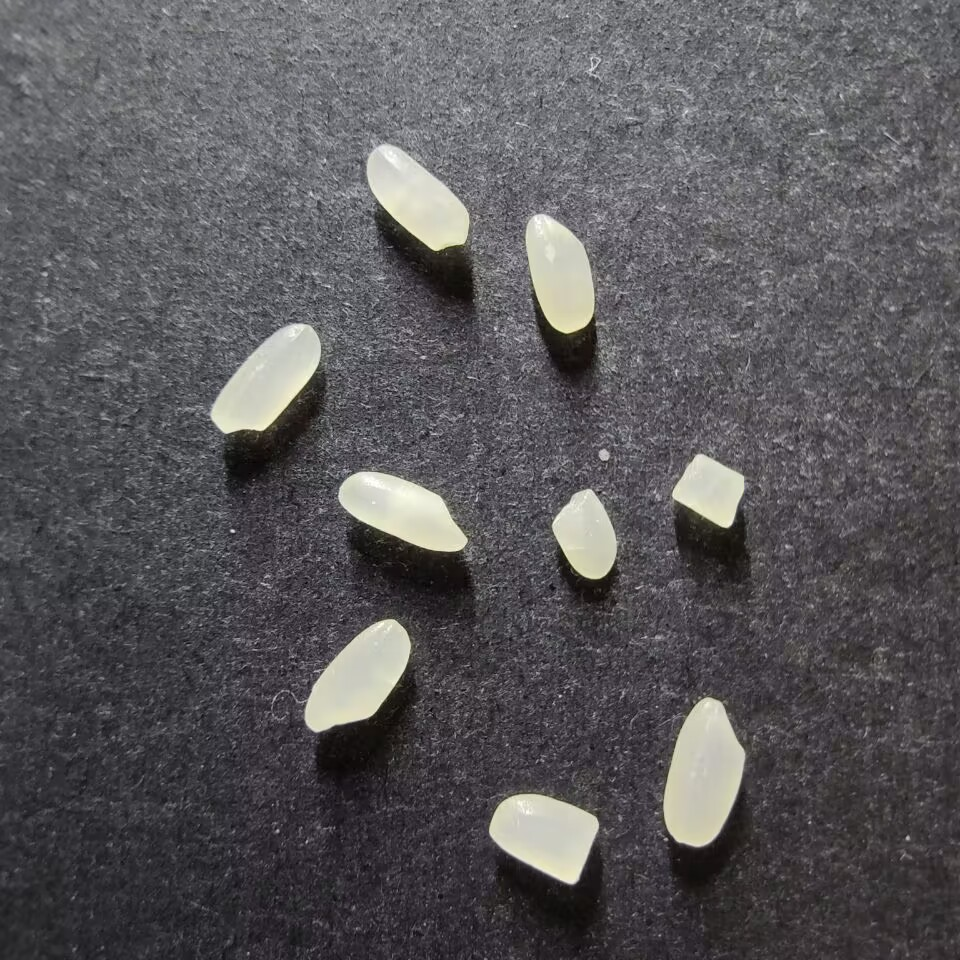broken: (488, 793, 600, 885), (551, 488, 617, 579), (670, 453, 745, 528)
rice: (662, 697, 746, 847), (209, 322, 321, 434), (303, 619, 411, 732), (365, 143, 469, 251), (337, 470, 468, 552), (524, 212, 594, 333)
